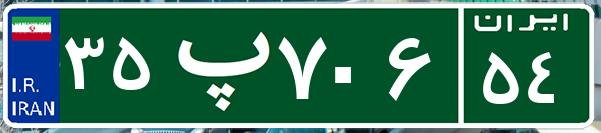0: (330, 28, 385, 110)
3: (57, 26, 110, 107)
4: (525, 38, 570, 115)
5: (475, 38, 525, 113), (110, 28, 158, 105)
6: (385, 28, 445, 110)
7: (273, 28, 330, 110)
پ: (158, 15, 273, 115)
